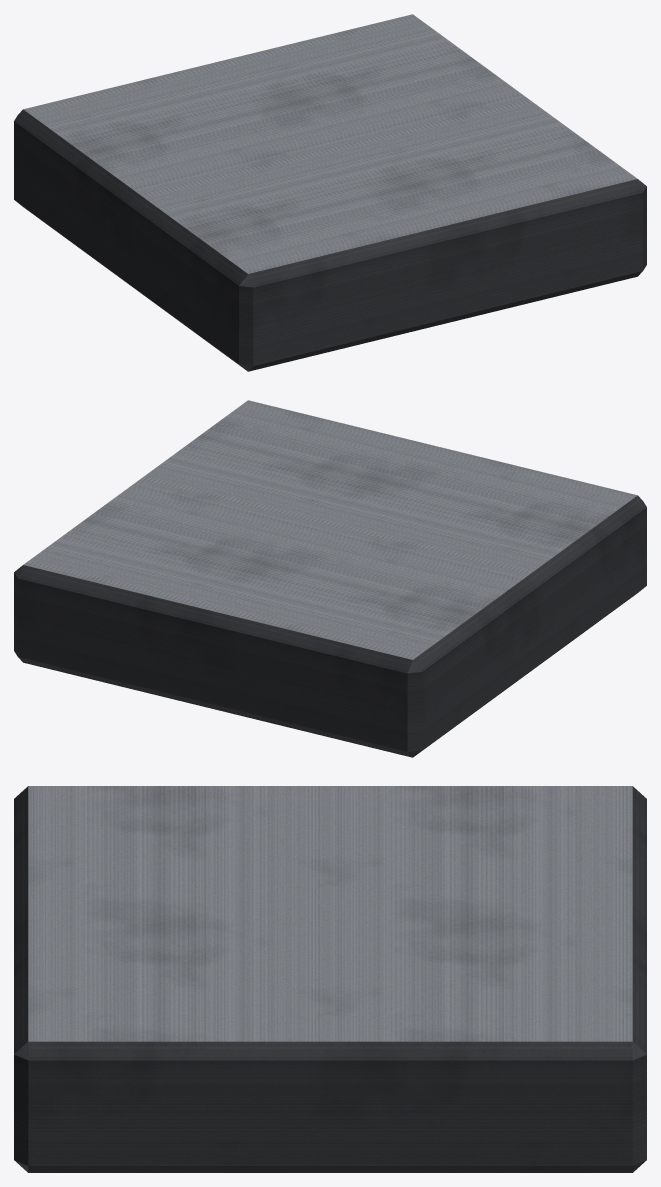
The model's file is R4B_Plate2x2_LOD1.glb.
The picture shows the model from 3 angles, top to bottom: view 1: azimuth 30°, elevation 25°; view 2: azimuth 150°, elevation 25°; view 3: azimuth 270°, elevation 25°; orthographic projection. The views are drawn at different scales.
Parts seen in each view (by area): view 1: R4B_Plate2x2_LOD1; view 2: R4B_Plate2x2_LOD1; view 3: R4B_Plate2x2_LOD1.
Boxes of the visible parts, x1,y1,x2,y2 form: R4B_Plate2x2_LOD1: [14, 14, 646, 371]; R4B_Plate2x2_LOD1: [14, 400, 646, 757]; R4B_Plate2x2_LOD1: [14, 786, 646, 1172].
Size of the model in its own units: 1.07 by 0.245 by 1.07.
2 materials, 2 textured.
